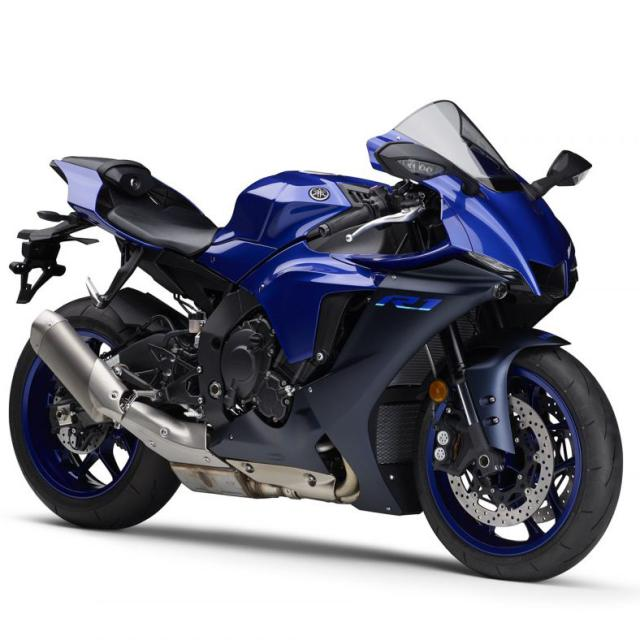Bike: (10, 100, 622, 579)
